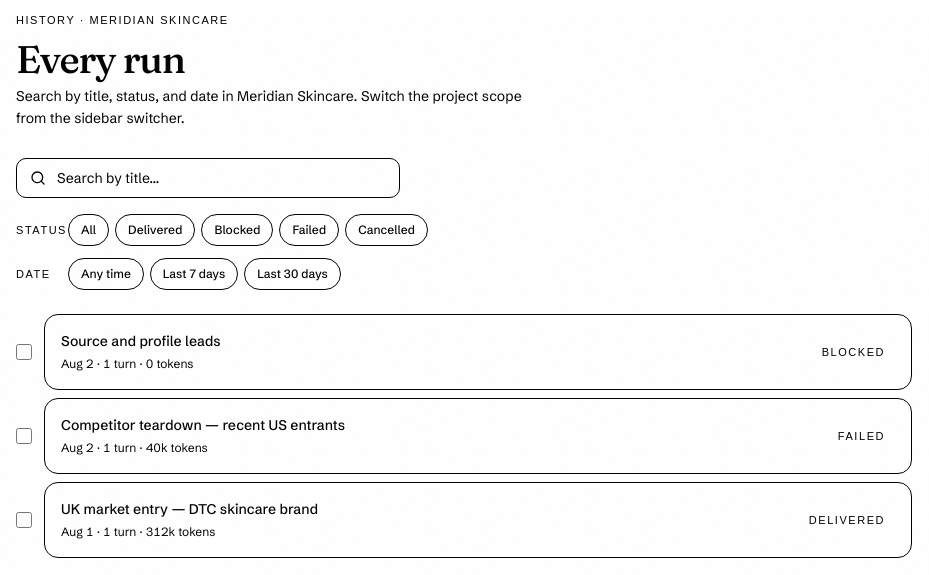
Test case: HistoryPage › combines search and status filters
Click the radio button labelled "Failed": click(309, 230) [280, 214, 339, 246]
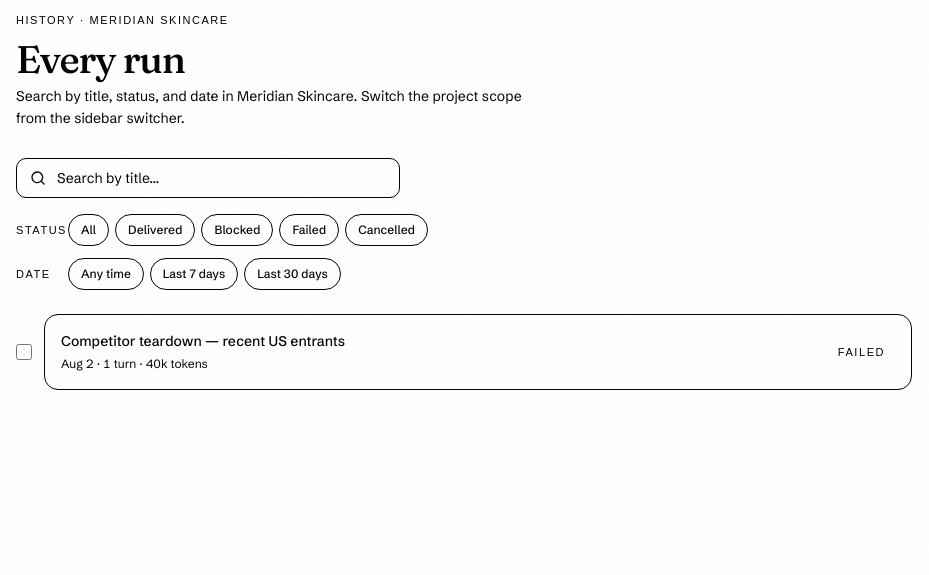
In the search field named "Search run history": (208, 178) [16, 158, 400, 198], type "source"
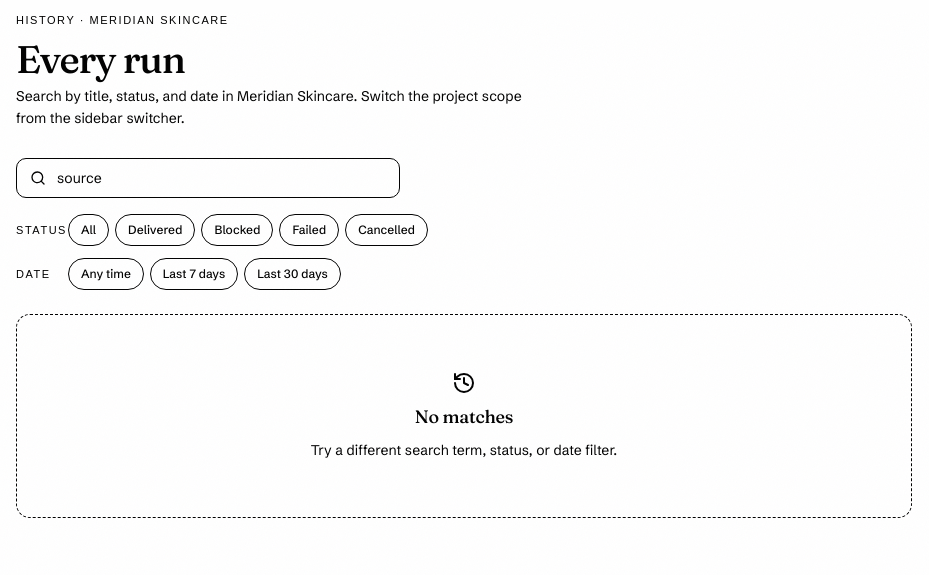
expect the text "No matches" is shown: met, box [415, 407, 513, 426]
